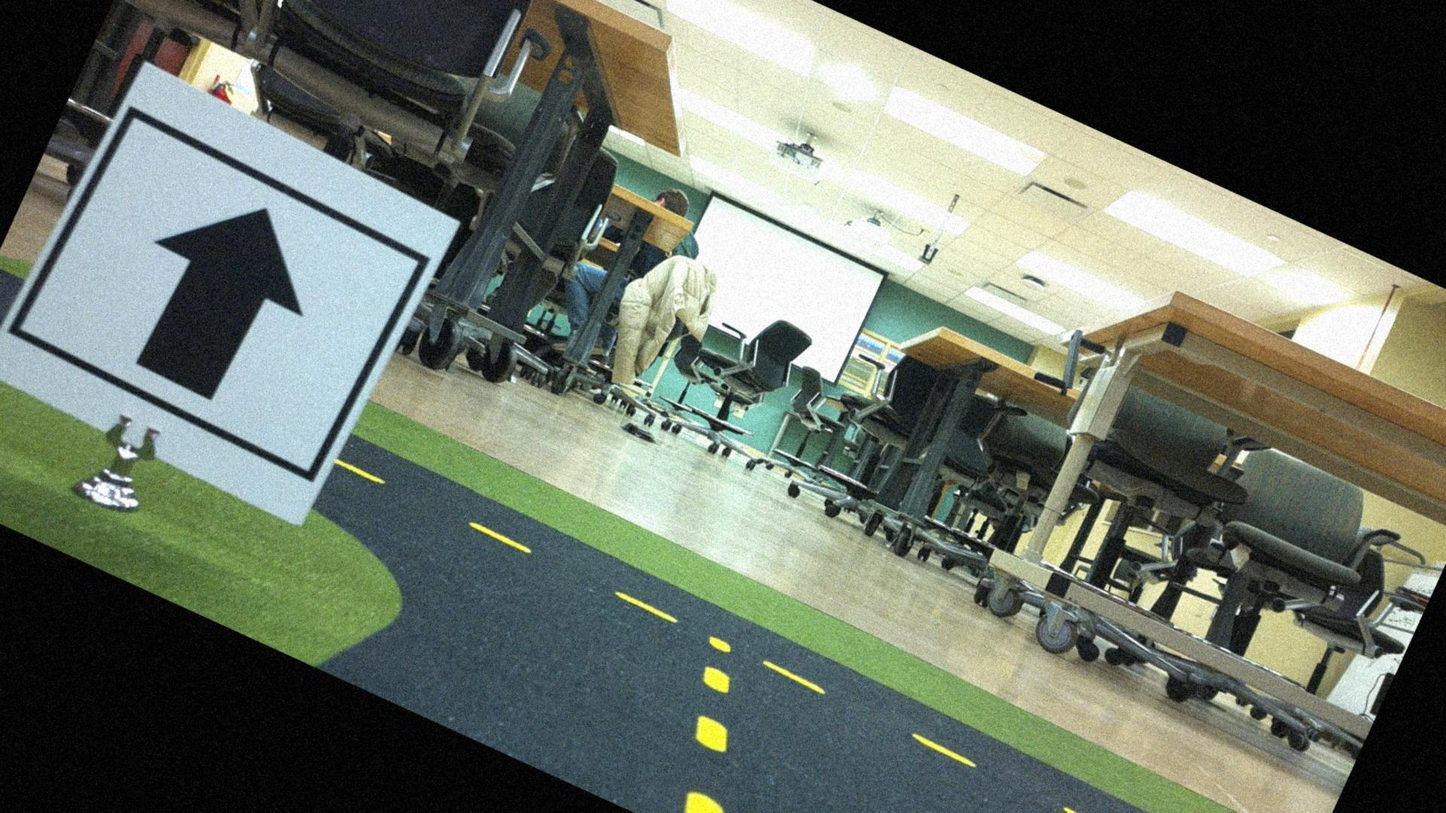gostraight: (9, 94, 437, 508)
yellowline: (328, 455, 1296, 812), (633, 635, 798, 812)
